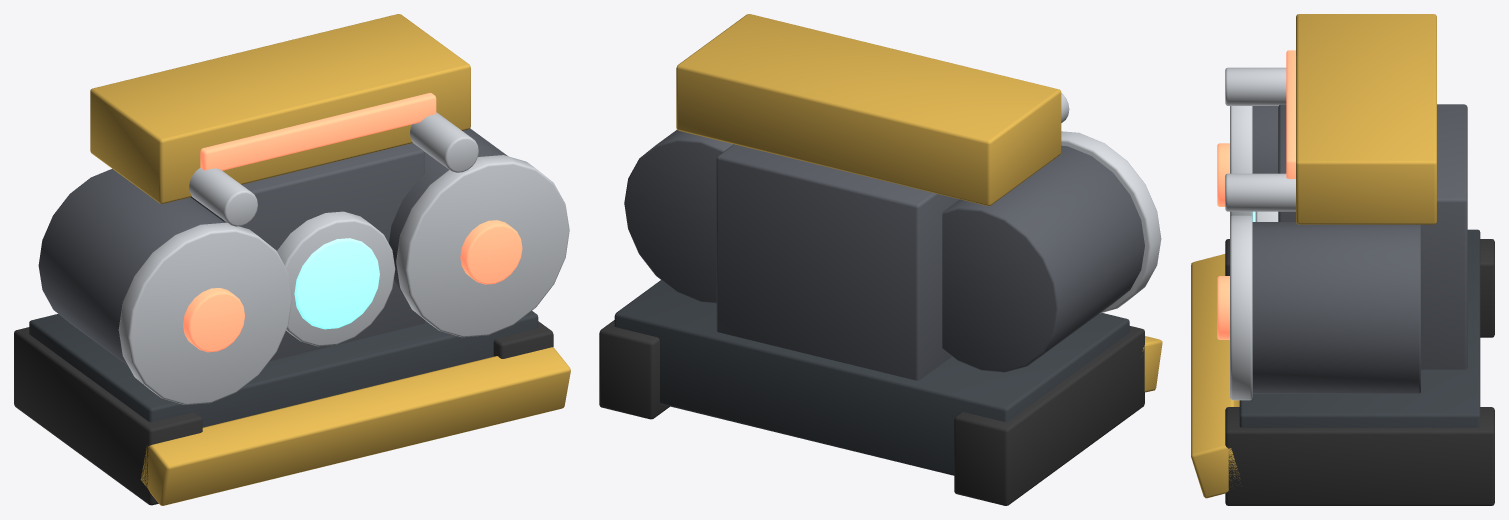
Rendered from enemy_boss_leviathan_turbo.glb.
The picture shows the model from 3 angles, left to right: view 1: azimuth 30°, elevation 25°; view 2: azimuth 150°, elevation 25°; view 3: azimuth 270°, elevation 25°; orthographic projection. The views are drawn at different scales.
Visible parts, largest first — view 1: CommandBridge, FrontSplitterPlow, TurboIntakeRim_-1, TurboIntakeRim_1, LeviathanBaseHull, TurboNacelle_-1, LeviathanCenterCore, HeavyTrack_-1, CommandVisor, CenterAfterburner, AfterburnerCoreGlow, TurboSpinner_1 (+5 smaller); view 2: CommandBridge, LeviathanCenterCore, LeviathanBaseHull, TurboNacelle_-1, HeavyTrack_-1, TurboNacelle_1, HeavyTrack_1, TurboIntakeRim_-1, FrontSplitterPlow; view 3: CommandBridge, TurboNacelle_1, HeavyTrack_1, LeviathanBaseHull, LeviathanCenterCore, FrontSplitterPlow, TurboIntakeRim_1, ShoulderCannon_1, ShoulderCannon_-1, TurboNacelle_-1, TurboIntakeRim_-1, HeavyTrack_-1 (+3 smaller).
Part boxes in pixels (bbox=[...]): CommandBridge: bbox=[90, 14, 470, 203]; FrontSplitterPlow: bbox=[140, 347, 570, 505]; TurboIntakeRim_-1: bbox=[118, 222, 292, 404]; TurboIntakeRim_1: bbox=[396, 155, 569, 337]; LeviathanBaseHull: bbox=[29, 311, 538, 427]; TurboNacelle_-1: bbox=[38, 169, 224, 365]; LeviathanCenterCore: bbox=[191, 143, 424, 361]; HeavyTrack_-1: bbox=[14, 327, 202, 505]; CommandVisor: bbox=[200, 93, 436, 170]; CenterAfterburner: bbox=[277, 211, 395, 346]; AfterburnerCoreGlow: bbox=[294, 238, 379, 329]; TurboSpinner_1: bbox=[460, 220, 522, 284]; CommandBridge: bbox=[676, 14, 1061, 205]; LeviathanCenterCore: bbox=[716, 144, 959, 380]; LeviathanBaseHull: bbox=[614, 280, 1129, 475]; TurboNacelle_-1: bbox=[942, 145, 1144, 372]; HeavyTrack_-1: bbox=[954, 326, 1144, 505]; TurboNacelle_1: bbox=[624, 130, 733, 303]; HeavyTrack_1: bbox=[599, 320, 669, 419]; TurboIntakeRim_-1: bbox=[1061, 131, 1161, 313]; FrontSplitterPlow: bbox=[1142, 336, 1162, 392]; CommandBridge: bbox=[1296, 14, 1436, 224]; TurboNacelle_1: bbox=[1252, 222, 1420, 393]; HeavyTrack_1: bbox=[1225, 407, 1494, 505]; LeviathanBaseHull: bbox=[1239, 229, 1480, 427]; LeviathanCenterCore: bbox=[1278, 104, 1467, 369]; FrontSplitterPlow: bbox=[1191, 254, 1239, 498]; TurboIntakeRim_1: bbox=[1230, 215, 1252, 400]; ShoulderCannon_1: bbox=[1225, 173, 1295, 211]; ShoulderCannon_-1: bbox=[1225, 67, 1286, 105]; TurboNacelle_-1: bbox=[1252, 106, 1278, 173]; TurboIntakeRim_-1: bbox=[1230, 106, 1252, 217]; HeavyTrack_-1: bbox=[1225, 239, 1494, 337].
Size of the model in its own units: 3.12 by 2.22 by 1.89.
